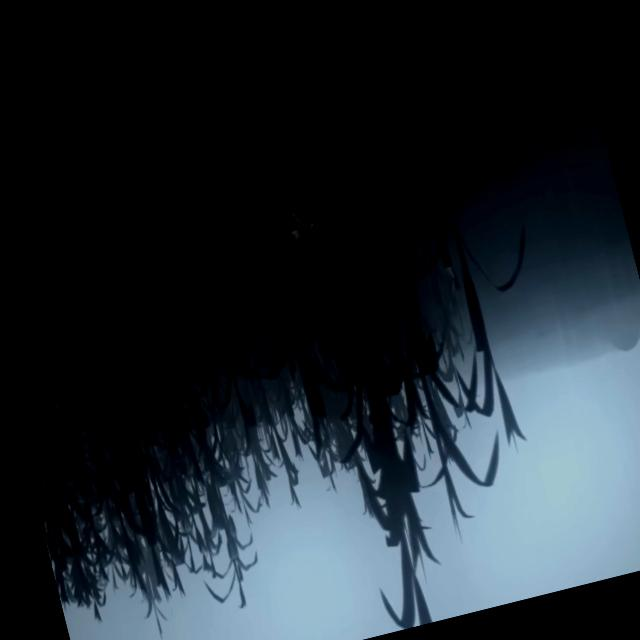boy: (284, 208, 320, 252)
